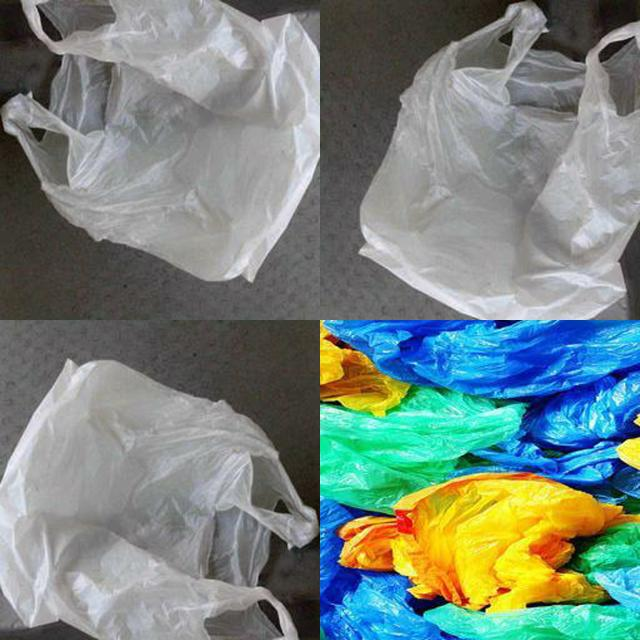Single-layer Plastic: (2, 0, 319, 281), (0, 360, 318, 640), (360, 2, 640, 318), (339, 472, 640, 612), (320, 386, 525, 513), (325, 320, 640, 398)
